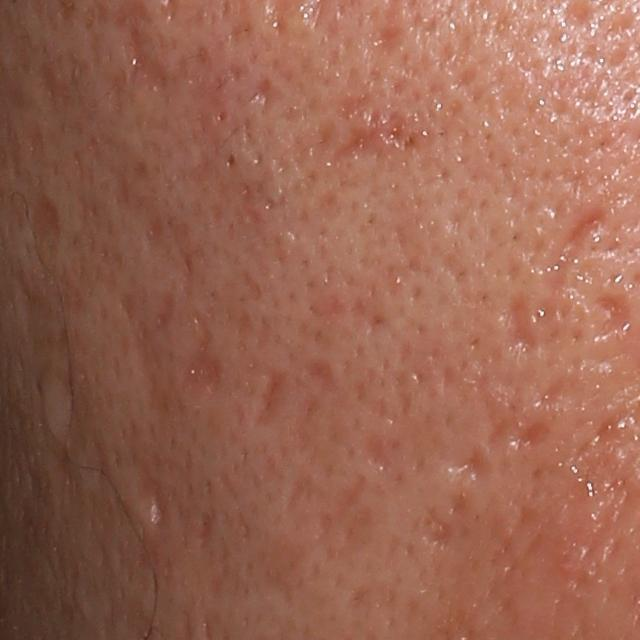atrophic_scar: (327, 115, 432, 168), (543, 208, 608, 266), (122, 32, 171, 94), (503, 286, 543, 358), (178, 346, 229, 402), (248, 372, 294, 430), (44, 369, 79, 443), (441, 449, 496, 496), (592, 289, 632, 343), (126, 318, 158, 383), (138, 473, 169, 530), (356, 430, 392, 479), (254, 73, 290, 118), (278, 473, 315, 516), (532, 373, 569, 415), (514, 416, 551, 457), (32, 194, 61, 242), (302, 357, 334, 399), (423, 516, 457, 551), (155, 291, 177, 331), (195, 511, 215, 549), (225, 151, 236, 170)
